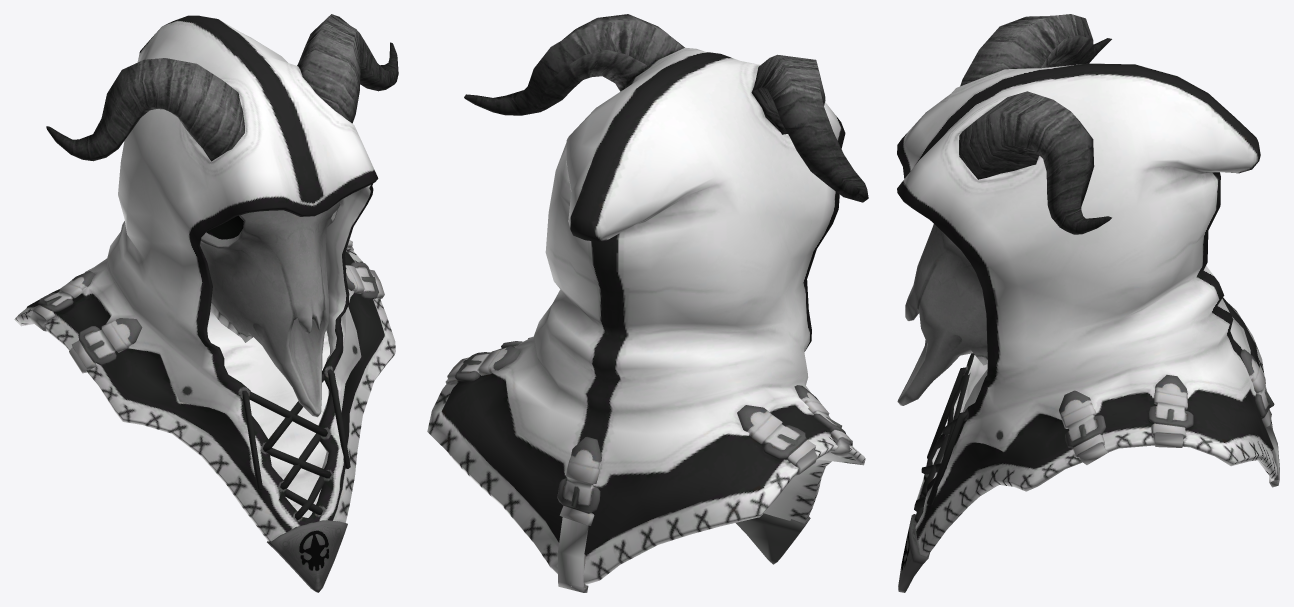
Rendered from SurvivorMale_Head_Mask_GoatSkull_LOD0.glb.
3 views of the same model, side by side, from view 1: azimuth 30°, elevation 25°; view 2: azimuth 150°, elevation 25°; view 3: azimuth 270°, elevation 25° (orthographic). The views are drawn at different scales.
Parts seen in each view (by area): view 1: Hoodie; view 2: Hoodie; view 3: Hoodie.
Boxes of the visible parts, x1,y1,x2,y2 form: Hoodie: (14,14,398,592); Hoodie: (427,14,868,592); Hoodie: (897,14,1279,592).
Size of the model in its own units: 0.3891 by 0.539 by 0.3495.
Materials: 1 (1 with a texture image).
